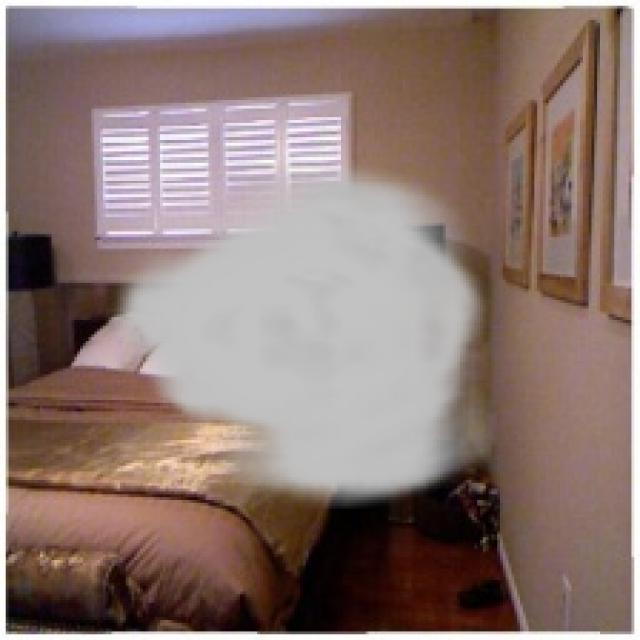Smoke: (106, 157, 492, 509)
